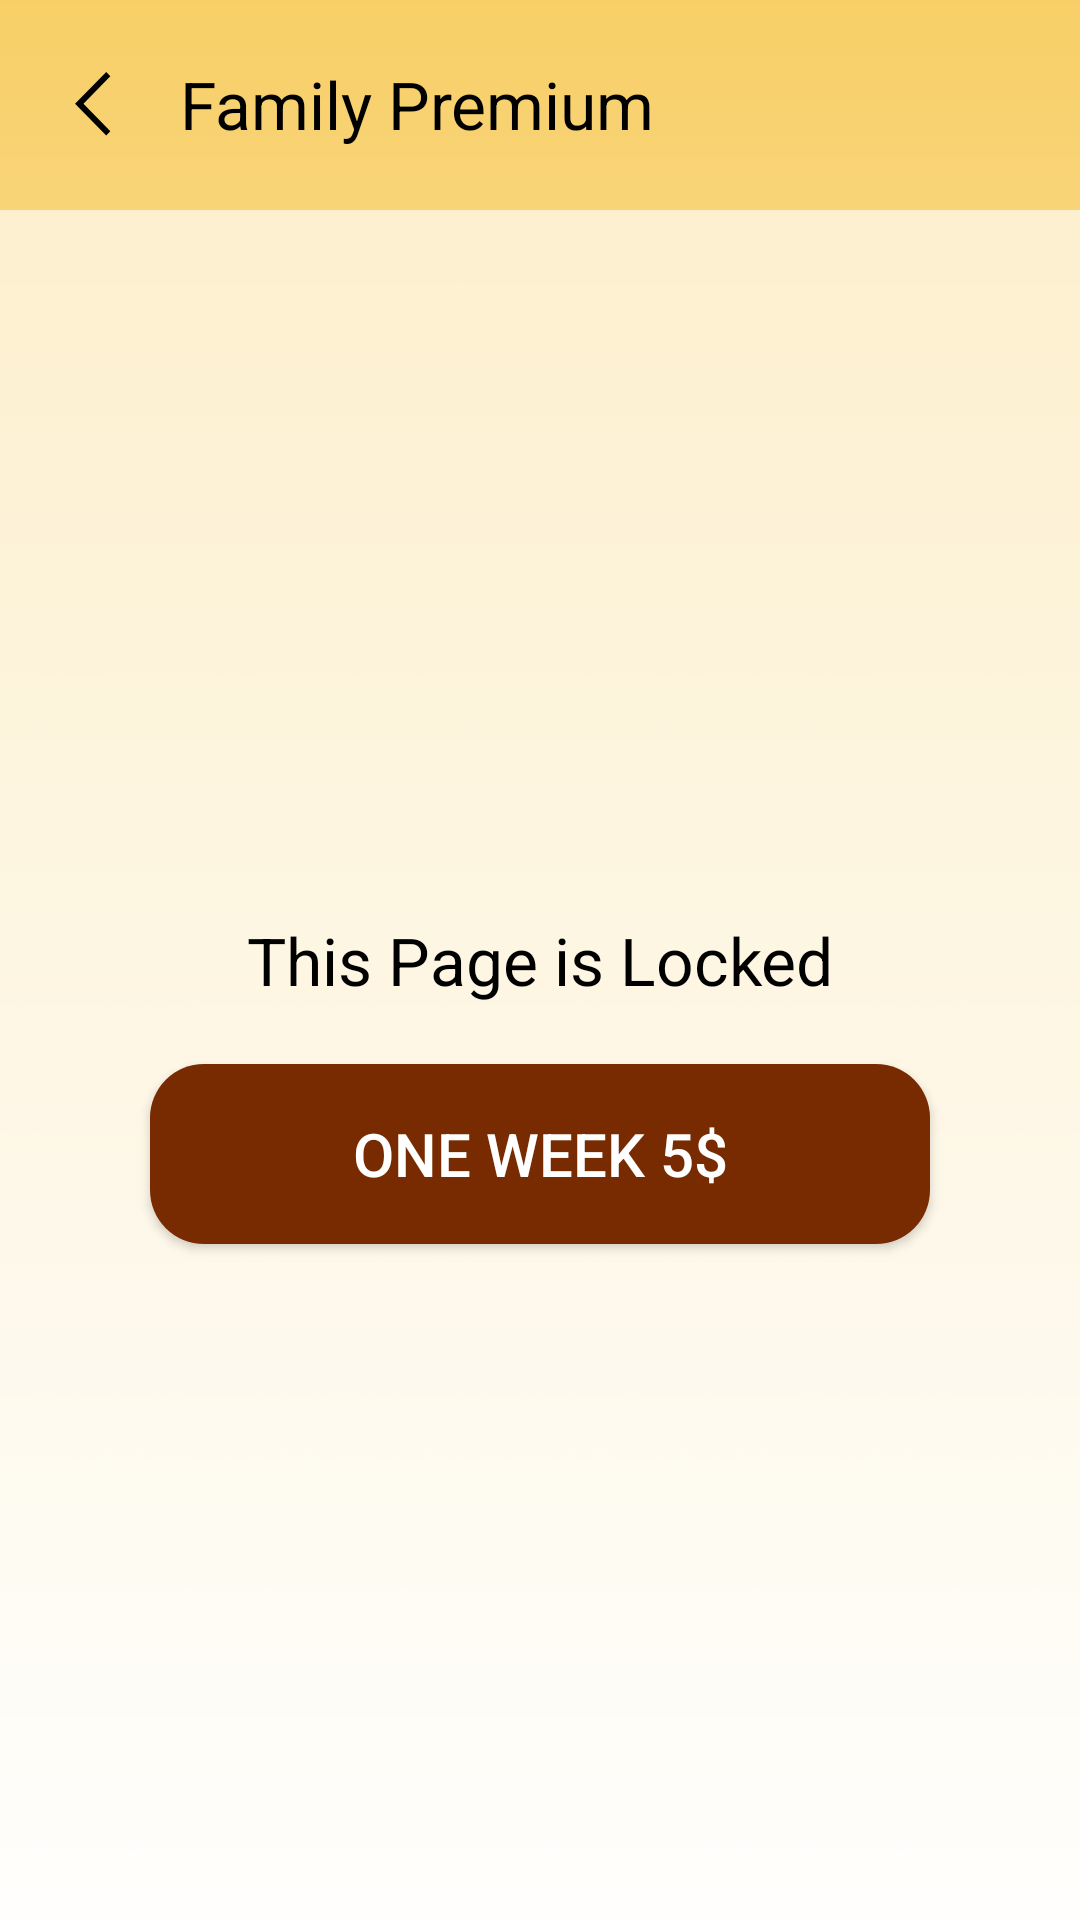

Locate icon controls on the screen. Image size 1080 x 1920, boxes as (x1, y1, x2, y2).
back: (75, 72, 111, 136)
